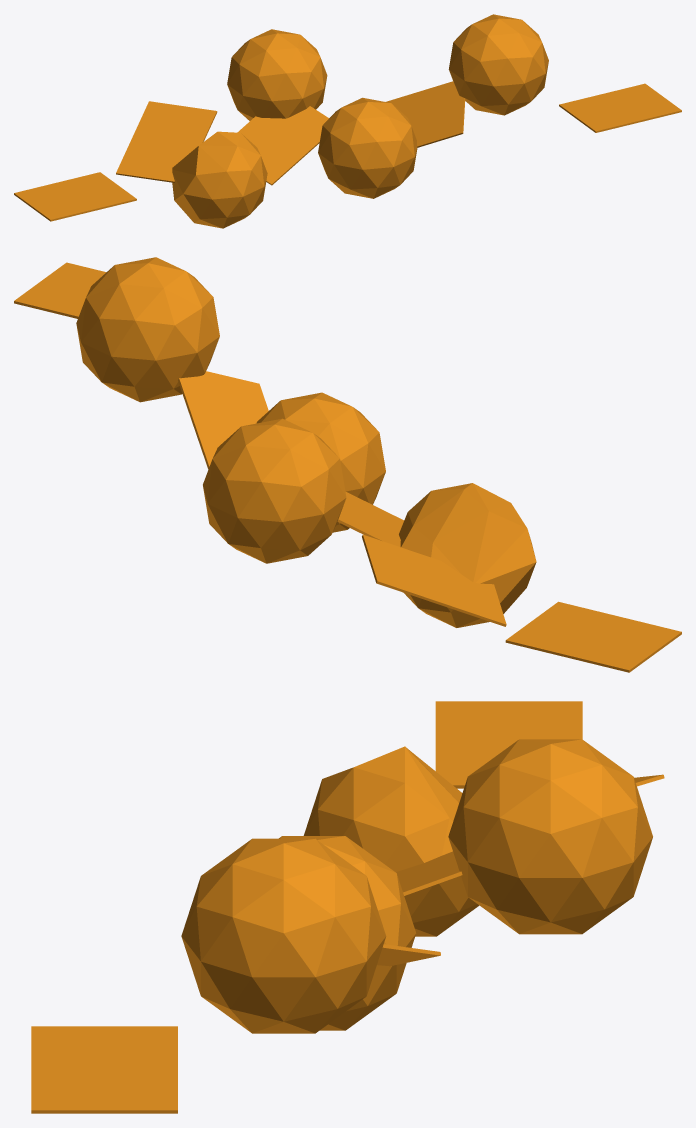
File: autumn_collisions.glb
3 renders of one model, top to bottom at view 1: azimuth 30°, elevation 25°; view 2: azimuth 150°, elevation 25°; view 3: azimuth 270°, elevation 25°, orthographic. The views are drawn at different scales.
Parts seen in each view (by area): view 1: Icosphere.007, Icosphere.005, Icosphere.006, Icosphere.004, Cube.008, Cube.007, Cube.005, Cube.009, Cube.006; view 2: Icosphere.006, Icosphere.007, Icosphere.004, Cube.009, Icosphere.005, Cube.008, Cube.006, Cube.005, Cube.007; view 3: Icosphere.007, Icosphere.006, Icosphere.004, Cube.005, Cube.009, Icosphere.005, Cube.007, Cube.006.
Part boxes in pixels (x1,y1,x2,y2): Icosphere.007: (448,14,548,115); Icosphere.005: (318,97,417,198); Icosphere.006: (227,29,327,120); Icosphere.004: (172,131,267,228); Cube.008: (116,101,217,182); Cube.007: (237,106,328,185); Cube.005: (559,83,681,132); Cube.009: (14,172,136,221); Cube.006: (386,81,465,147); Icosphere.006: (203,418,346,563); Icosphere.007: (76,257,219,402); Icosphere.004: (399,483,536,627); Cube.009: (505,601,681,672); Icosphere.005: (256,392,385,532); Cube.008: (362,534,506,626); Cube.006: (178,371,268,469); Cube.005: (14,262,106,318); Cube.007: (337,491,404,546); Icosphere.007: (181,838,386,1033); Icosphere.006: (448,739,652,934); Icosphere.004: (303,746,479,936); Cube.005: (31,1026,177,1113); Cube.009: (435,701,582,788); Icosphere.005: (279,836,416,1030); Cube.007: (396,851,462,895); Cube.006: (377,944,440,966).
Size of the model in its own units: 610 by 183 by 315.
